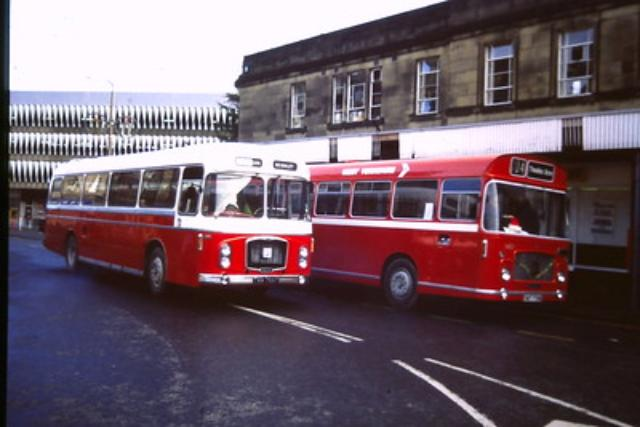bus: (42, 144, 314, 301), (309, 152, 571, 312)
